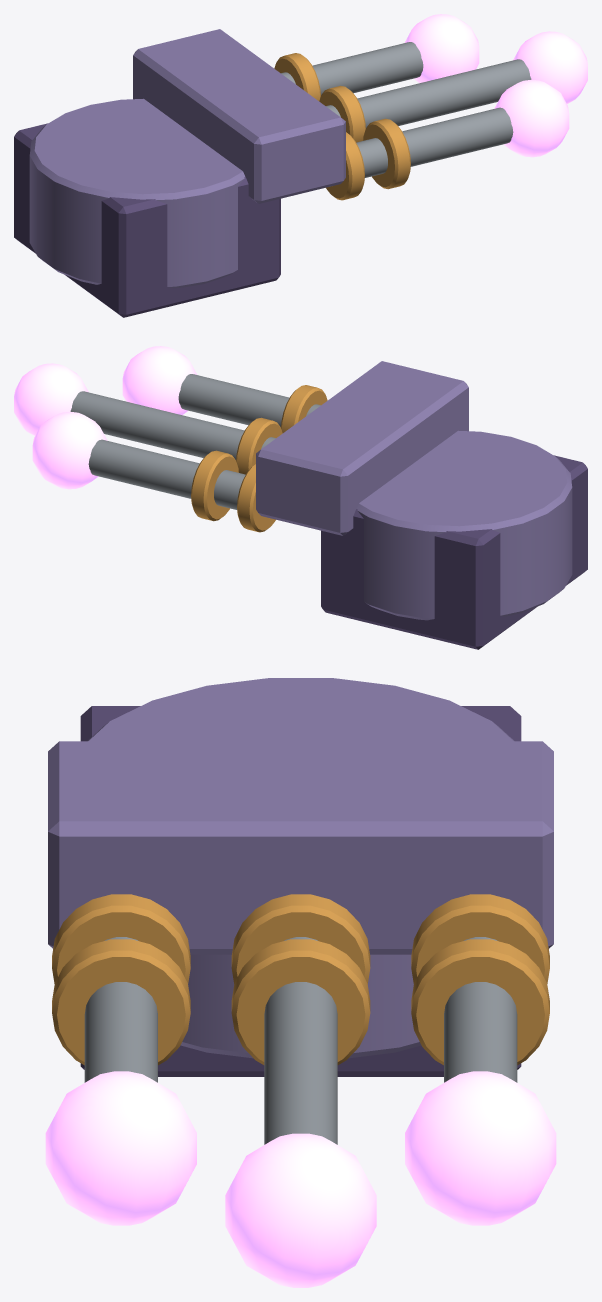
Rendered from arc_turret_l1.glb.
The picture shows the model from 3 angles, top to bottom: view 1: azimuth 30°, elevation 25°; view 2: azimuth 150°, elevation 25°; view 3: azimuth 270°, elevation 25°; orthographic projection. The views are drawn at different scales.
Parts seen in each view (by area): view 1: Cylinder, Cube.001, Cube, Cylinder.004, Cylinder.001, Sphere, Cylinder.007, Sphere.002, Sphere.001, Cylinder.003, Cylinder.006, Cylinder.002 (+1 smaller); view 2: Cylinder, Cube.001, Cube, Cylinder.004, Cylinder.007, Sphere.002, Cylinder.001, Sphere, Sphere.001, Cylinder.009, Cylinder.006, Cylinder.008 (+1 smaller); view 3: Cube.001, Cylinder, Sphere, Sphere.001, Sphere.002, Cylinder.004, Cylinder.006, Cylinder.003, Cylinder.009, Cube, Cylinder.001, Cylinder.007 (+3 smaller).
Boxes of the visible parts, x1=… form: Cylinder: x1=29, y1=98, x2=245, y2=288; Cube.001: x1=133, y1=29, x2=345, y2=203; Cube: x1=14, y1=123, x2=280, y2=317; Cylinder.004: x1=326, y1=59, x2=531, y2=127; Cylinder.001: x1=356, y1=107, x2=513, y2=177; Sphere: x1=494, y1=80, x2=569, y2=157; Cylinder.007: x1=281, y1=42, x2=423, y2=95; Sphere.002: x1=404, y1=14, x2=479, y2=83; Sphere.001: x1=513, y1=31, x2=587, y2=103; Cylinder.003: x1=363, y1=118, x2=410, y2=189; Cylinder.006: x1=319, y1=85, x2=365, y2=142; Cylinder.002: x1=326, y1=132, x2=364, y2=200; Cylinder: x1=356, y1=430, x2=572, y2=620; Cube.001: x1=256, y1=361, x2=468, y2=535; Cube: x1=321, y1=455, x2=587, y2=649; Cylinder.004: x1=70, y1=391, x2=275, y2=459; Cylinder.007: x1=88, y1=439, x2=245, y2=509; Sphere.002: x1=32, y1=412, x2=107, y2=489; Cylinder.001: x1=178, y1=374, x2=320, y2=427; Sphere: x1=122, y1=346, x2=197, y2=415; Sphere.001: x1=14, y1=363, x2=88, y2=435; Cylinder.009: x1=191, y1=450, x2=238, y2=521; Cylinder.006: x1=236, y1=417, x2=282, y2=474; Cylinder.008: x1=237, y1=464, x2=275, y2=532; Cube.001: x1=48, y1=741, x2=553, y2=954; Cylinder: x1=87, y1=678, x2=514, y2=1058; Sphere: x1=45, y1=1071, x2=196, y2=1225; Sphere.001: x1=225, y1=1133, x2=376, y2=1287; Sphere.002: x1=405, y1=1071, x2=556, y2=1225; Cylinder.004: x1=264, y1=937, x2=337, y2=1144; Cylinder.006: x1=231, y1=939, x2=370, y2=1064; Cylinder.003: x1=52, y1=939, x2=190, y2=1065; Cylinder.009: x1=411, y1=939, x2=549, y2=1065; Cube: x1=80, y1=706, x2=521, y2=1076; Cylinder.001: x1=84, y1=937, x2=157, y2=1082; Cylinder.007: x1=444, y1=937, x2=517, y2=1082.
Size of the model in its own units: 1.52 by 0.42 by 0.6252.
